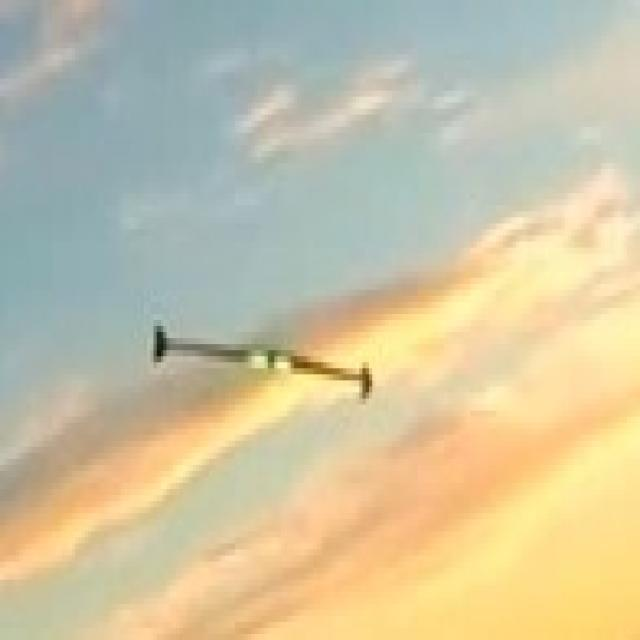UAV: (111, 344, 416, 441)
